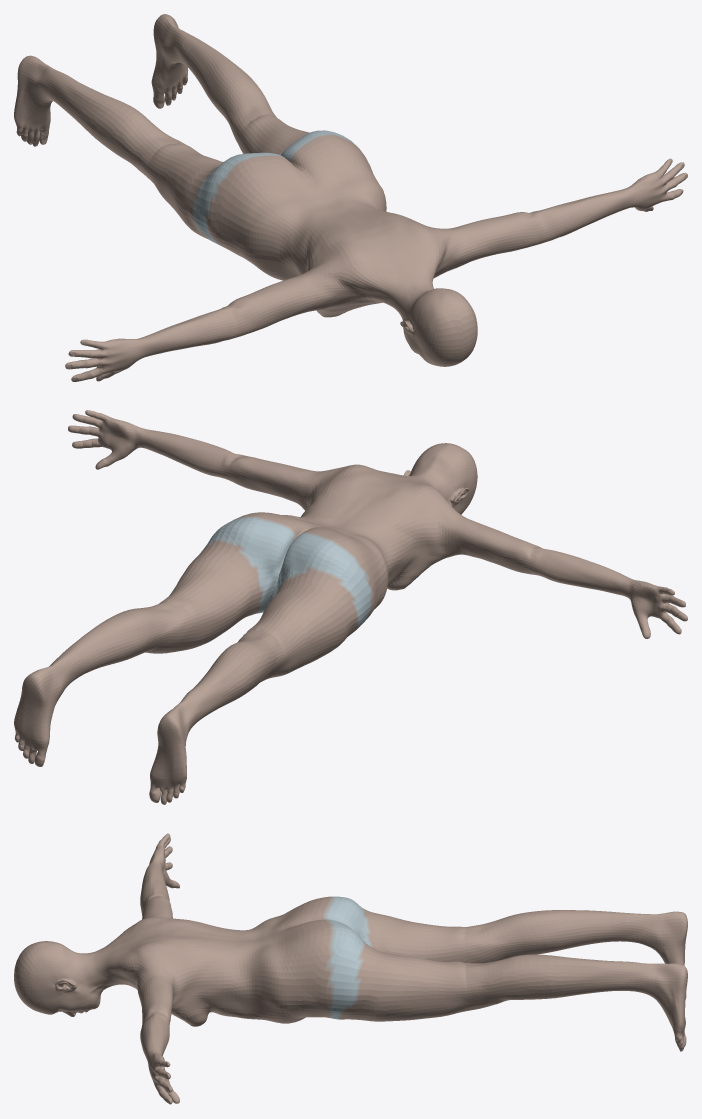
The picture shows the model from 3 angles, top to bottom: view 1: azimuth 30°, elevation 25°; view 2: azimuth 150°, elevation 25°; view 3: azimuth 270°, elevation 25°; orthographic projection. The views are drawn at different scales.
Parts seen in each view (by area): view 1: geometry_0; view 2: geometry_0; view 3: geometry_0.
Boxes of the visible parts, left/top/right/bottom form: geometry_0: left=14, top=14, right=687, bottom=381; geometry_0: left=14, top=410, right=687, bottom=804; geometry_0: left=14, top=833, right=687, bottom=1104.
Bounding box in the file's own units: 1.71 × 0.3295 × 1.74.
